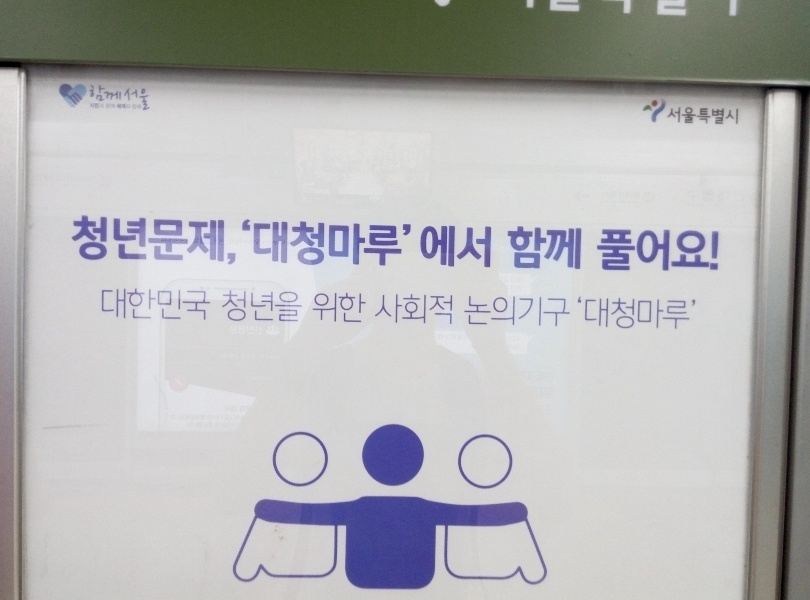text: (241, 219, 256, 272), (257, 219, 272, 272), (273, 219, 288, 272), (289, 219, 304, 272), (305, 219, 320, 272), (321, 219, 336, 272), (337, 219, 352, 272), (353, 219, 368, 272), (369, 219, 384, 272), (385, 219, 400, 272), (81, 216, 96, 265), (97, 216, 112, 265), (113, 216, 128, 265), (129, 216, 144, 265), (145, 216, 160, 265), (161, 216, 176, 265), (177, 216, 192, 265), (193, 216, 208, 265), (209, 216, 224, 265), (225, 216, 240, 265), (513, 226, 528, 270), (529, 226, 544, 270), (545, 226, 560, 270), (561, 226, 576, 270), (433, 227, 448, 268), (449, 227, 464, 268), (465, 227, 480, 268), (609, 230, 624, 271), (625, 230, 640, 271), (641, 230, 656, 271), (657, 230, 672, 271), (673, 230, 688, 271), (689, 230, 704, 271), (705, 230, 719, 271), (401, 219, 411, 272), (113, 288, 128, 322), (129, 288, 144, 322), (145, 288, 160, 322), (161, 288, 176, 322), (177, 288, 192, 322), (193, 288, 208, 322), (225, 290, 240, 323), (241, 290, 256, 323), (257, 290, 272, 323), (273, 290, 288, 323), (593, 297, 608, 330), (609, 297, 624, 330), (625, 297, 640, 330), (641, 297, 656, 330), (657, 297, 672, 330), (673, 297, 688, 330), (420, 227, 432, 268), (481, 296, 496, 327), (497, 296, 512, 327), (513, 296, 528, 327), (529, 296, 544, 327), (545, 296, 560, 327), (289, 290, 303, 323), (578, 297, 592, 330), (385, 294, 400, 324), (401, 294, 416, 324), (417, 294, 432, 324), (433, 294, 448, 324), (321, 294, 336, 323), (337, 294, 352, 323), (97, 85, 112, 113), (113, 85, 128, 113), (129, 85, 144, 113), (481, 227, 491, 268), (353, 294, 367, 323), (467, 296, 480, 327), (561, 296, 572, 327), (102, 288, 112, 322), (673, 107, 688, 126), (689, 107, 704, 126), (705, 107, 720, 126), (721, 107, 736, 126), (602, 230, 608, 271), (75, 216, 80, 265), (689, 297, 696, 330), (657, 1, 672, 16), (145, 85, 152, 113), (673, 1, 686, 16), (508, 226, 512, 270), (577, 226, 581, 270), (90, 85, 96, 113), (561, 1, 576, 12), (548, 1, 560, 12), (449, 294, 453, 324), (316, 294, 320, 323), (729, 1, 736, 17), (434, 1, 448, 7), (625, 1, 631, 14), (97, 104, 112, 109), (113, 104, 128, 109), (209, 288, 211, 322), (129, 104, 141, 109), (529, 1, 533, 9), (383, 294, 384, 324), (622, 1, 624, 14), (91, 104, 96, 109), (577, 1, 579, 12), (737, 107, 738, 126), (526, 1, 528, 9)
